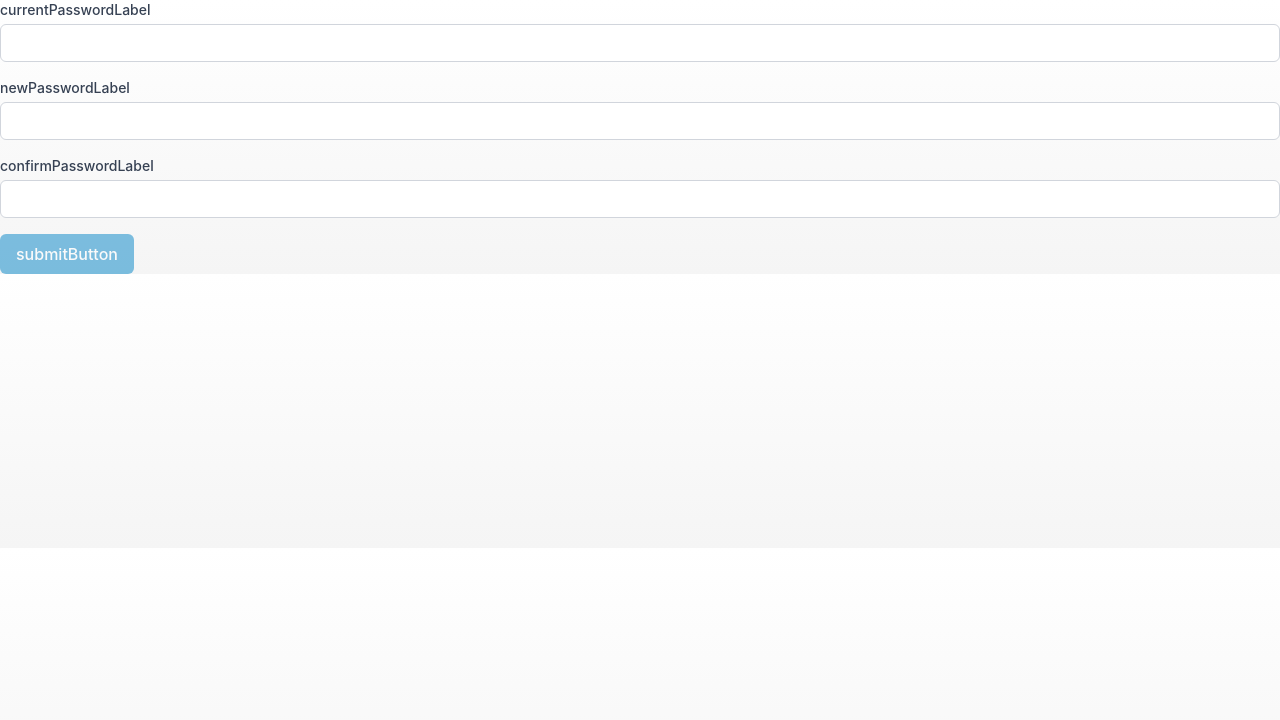
Test: ChangePasswordForm › validates that new password differs from current (client-side)
Type "SamePass123" into the password field labelled "currentPasswordLabel" at [640, 43], box 0,24 -> 1279,62
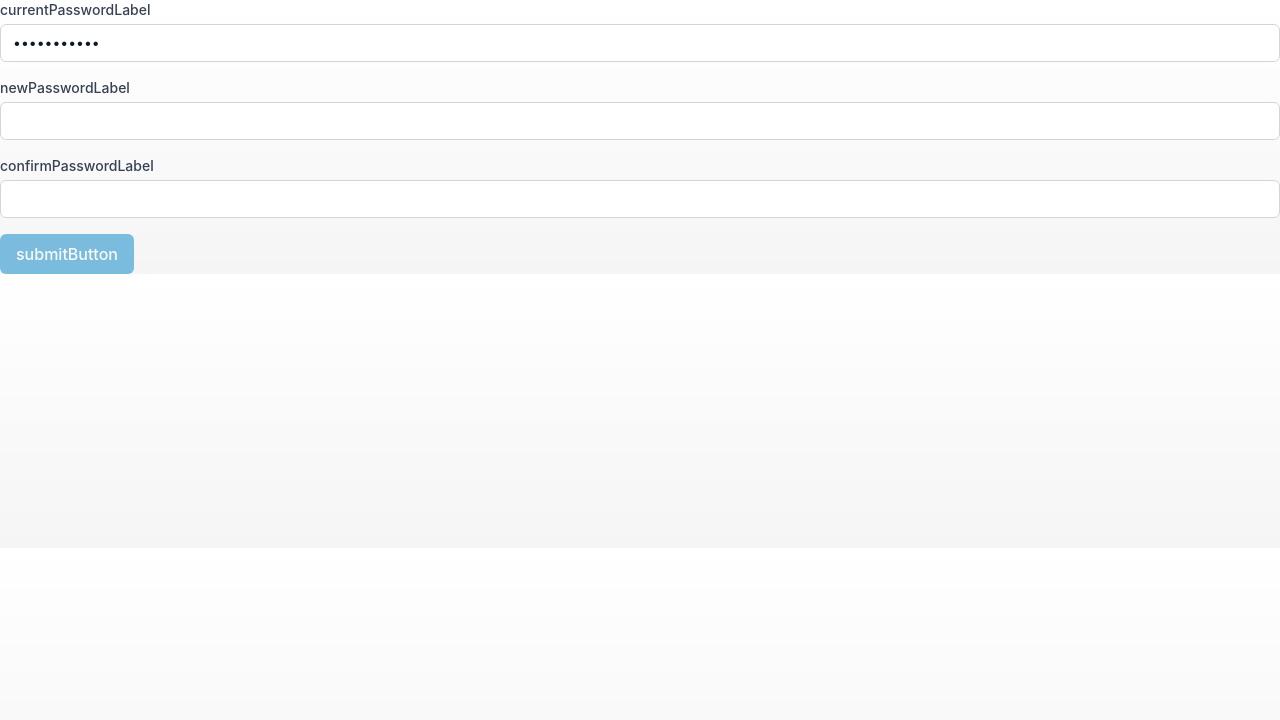
Type "SamePass123" into the password field labelled "newPasswordLabel" at [640, 121], box 0,102 -> 1279,140
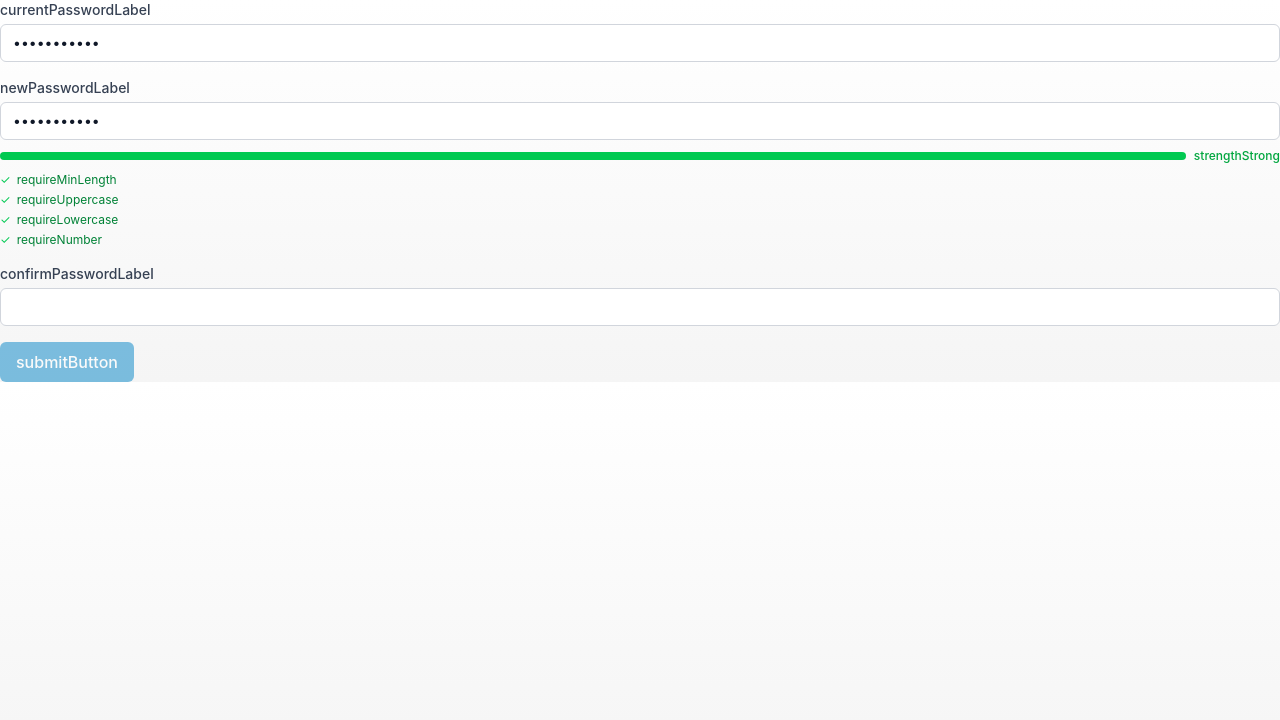
Type "SamePass123" into the password field labelled "confirmPasswordLabel" at [640, 307], box 0,288 -> 1279,326
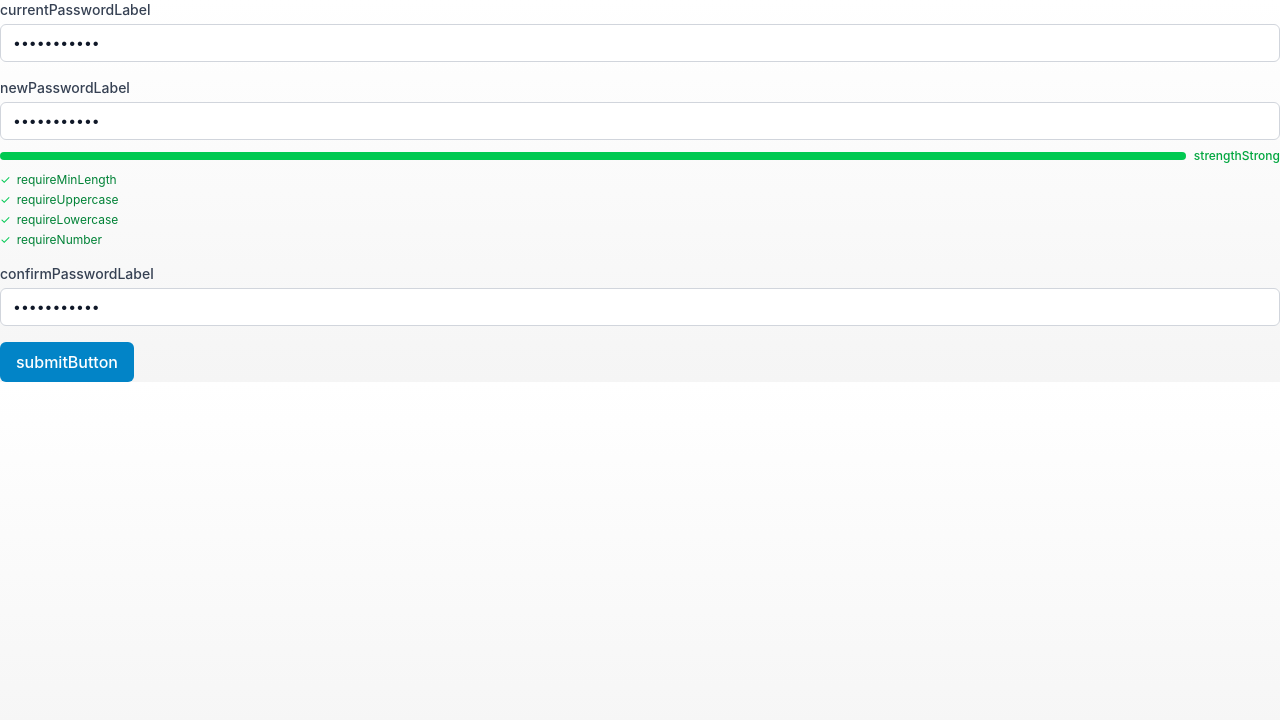
Click the button with test id "change-password-submit" at [67, 362], box 0,342 -> 134,382
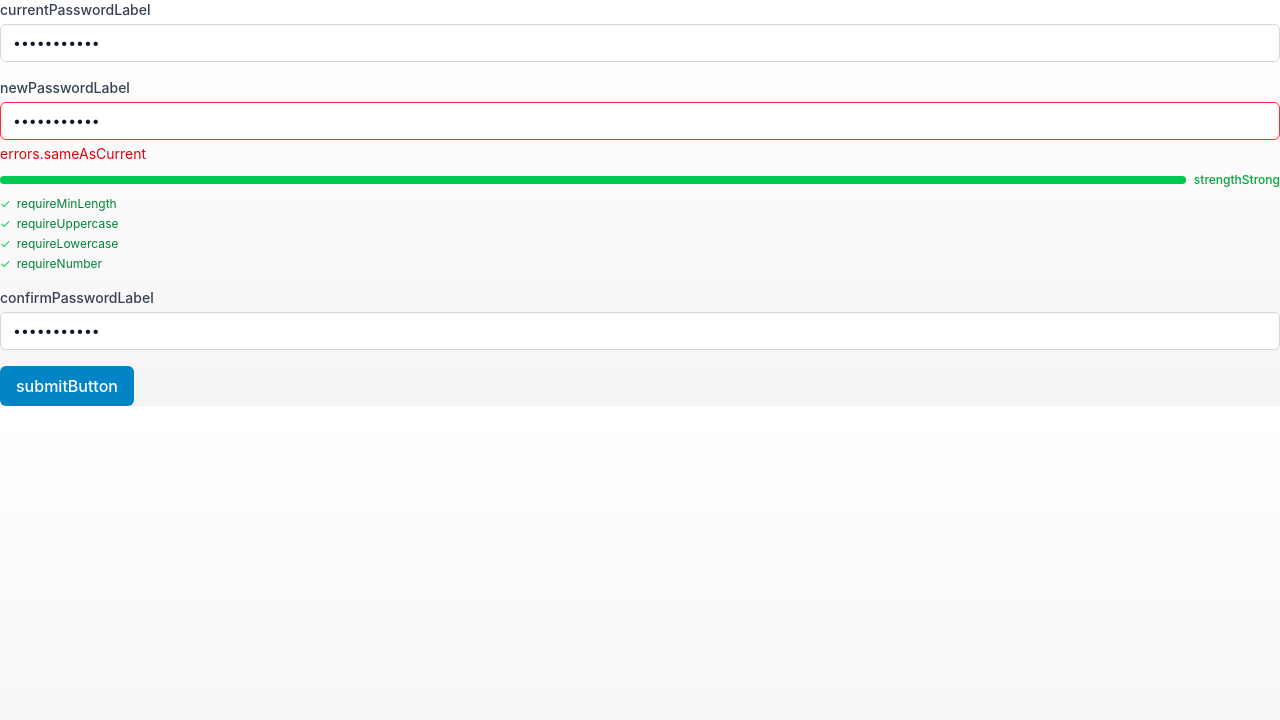
Check: the text "errors.sameAsCurrent" is shown, box 0,145 -> 146,162
